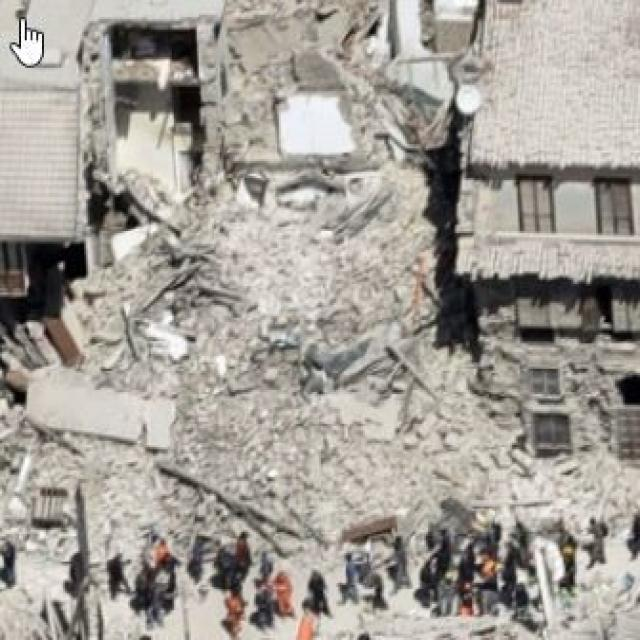collapsed_building: (98, 2, 458, 528)
